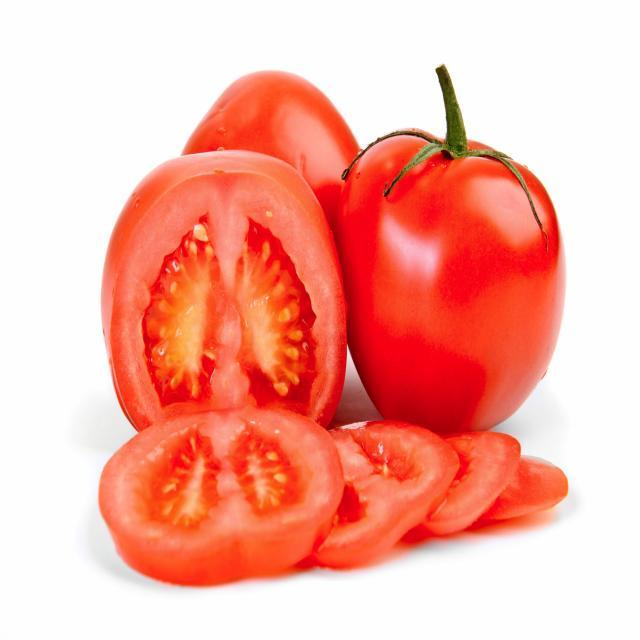TOMATO: (103, 156, 351, 435), (340, 134, 567, 432), (100, 414, 348, 594), (182, 75, 386, 242), (328, 406, 456, 558), (494, 421, 571, 545), (444, 430, 524, 534)
